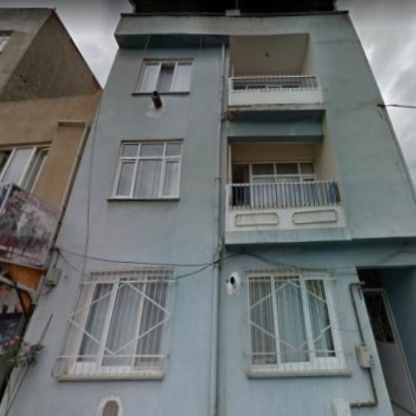door: (365, 293, 416, 416), (227, 146, 232, 183)
